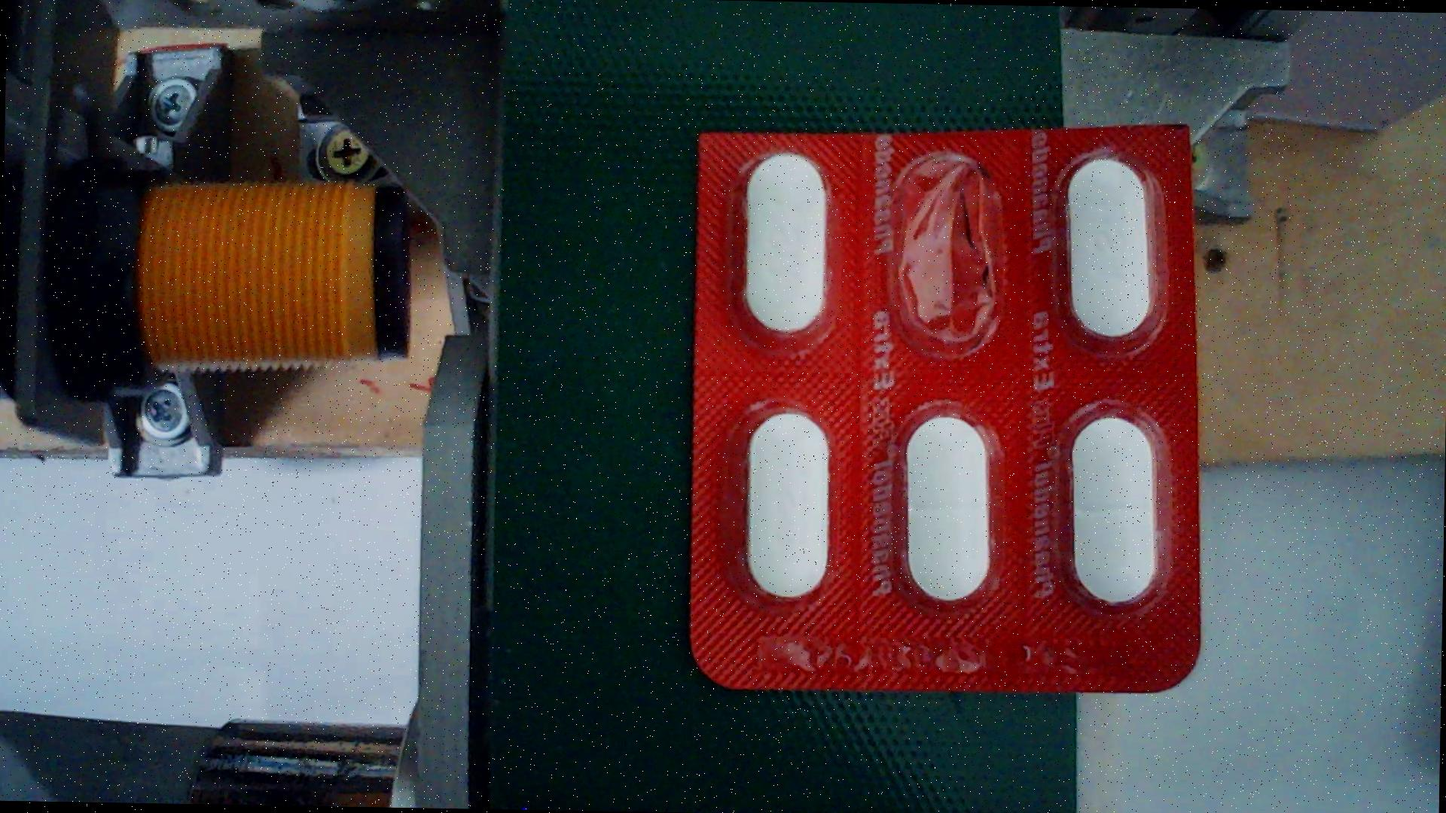Empty: (889, 146, 1010, 354)
Full: (888, 395, 1006, 614), (731, 141, 849, 359), (732, 395, 850, 613), (1058, 403, 1176, 621), (1063, 148, 1170, 359)
